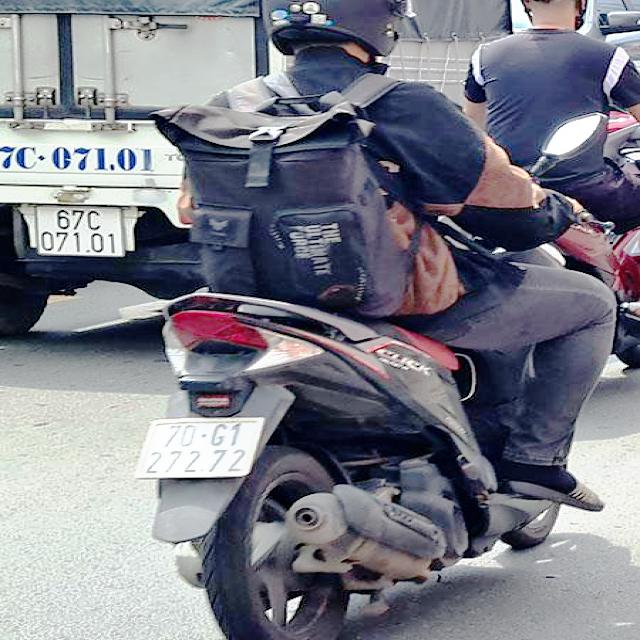license_plate: (135, 419, 263, 475), (34, 205, 126, 255)
